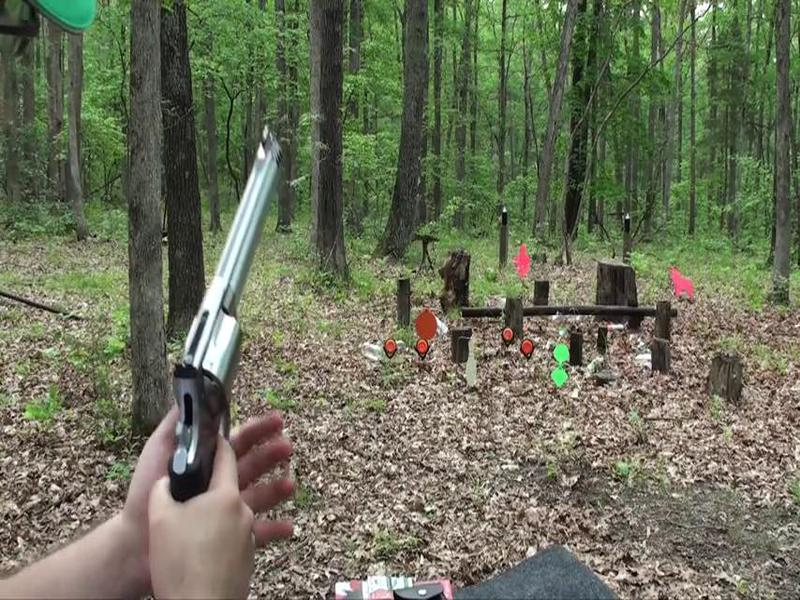Revolver: (147, 134, 308, 506)
